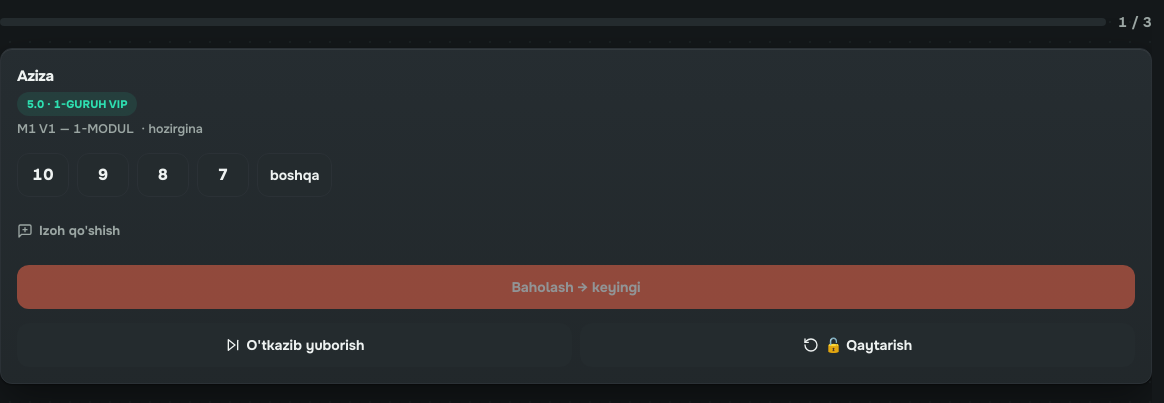
Test: TeacherGrade — advance removes the handled card by id (TUI-6) › a plain grade still advances to the next card with cleared inputs
The image size is (1164, 403).
Expected: the text "Aziza" is shown, top-left (17, 66), bottom-right (54, 86)
Click the button "9": (103, 175) top-left (77, 153), bottom-right (129, 197)
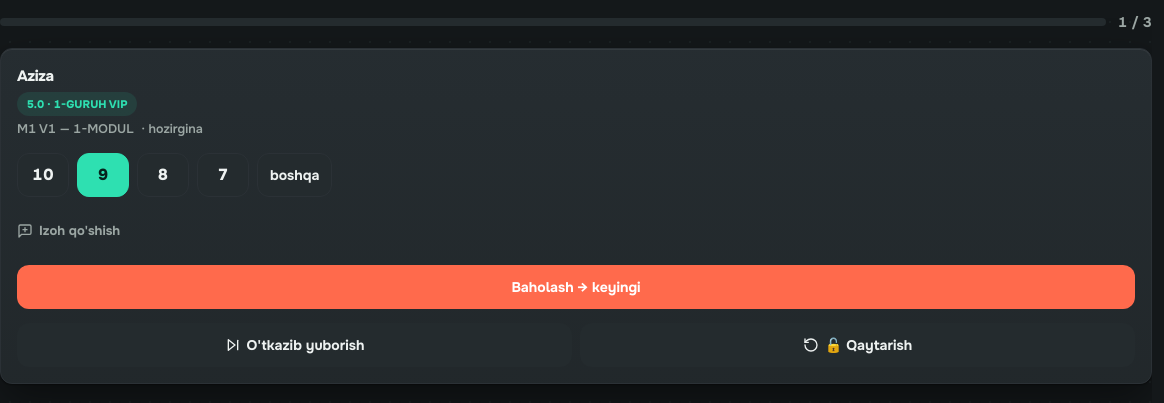
Click the button "Baholash → keyingi": (576, 287) top-left (17, 265), bottom-right (1135, 309)
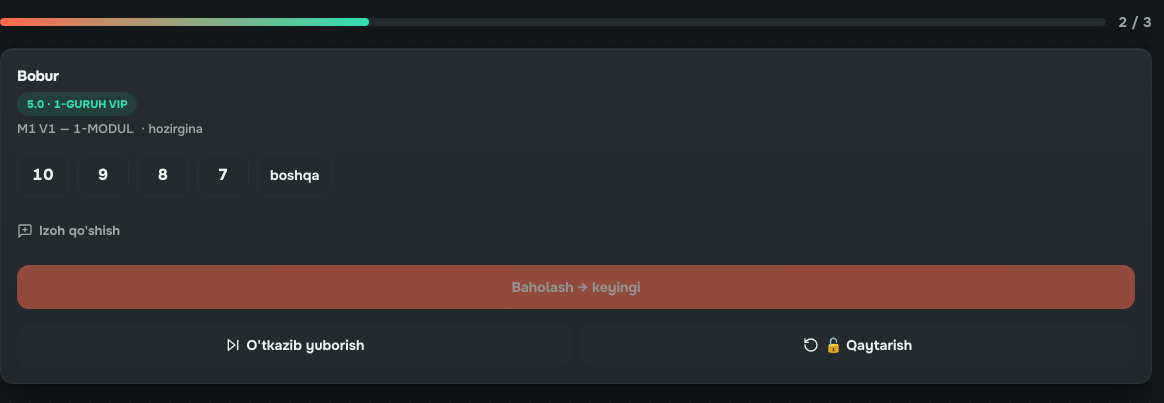
Now the text "Bobur" is shown, box top-left (17, 66), bottom-right (59, 86)
Now the text "2 / 3" is shown, box top-left (1118, 12), bottom-right (1152, 32)
